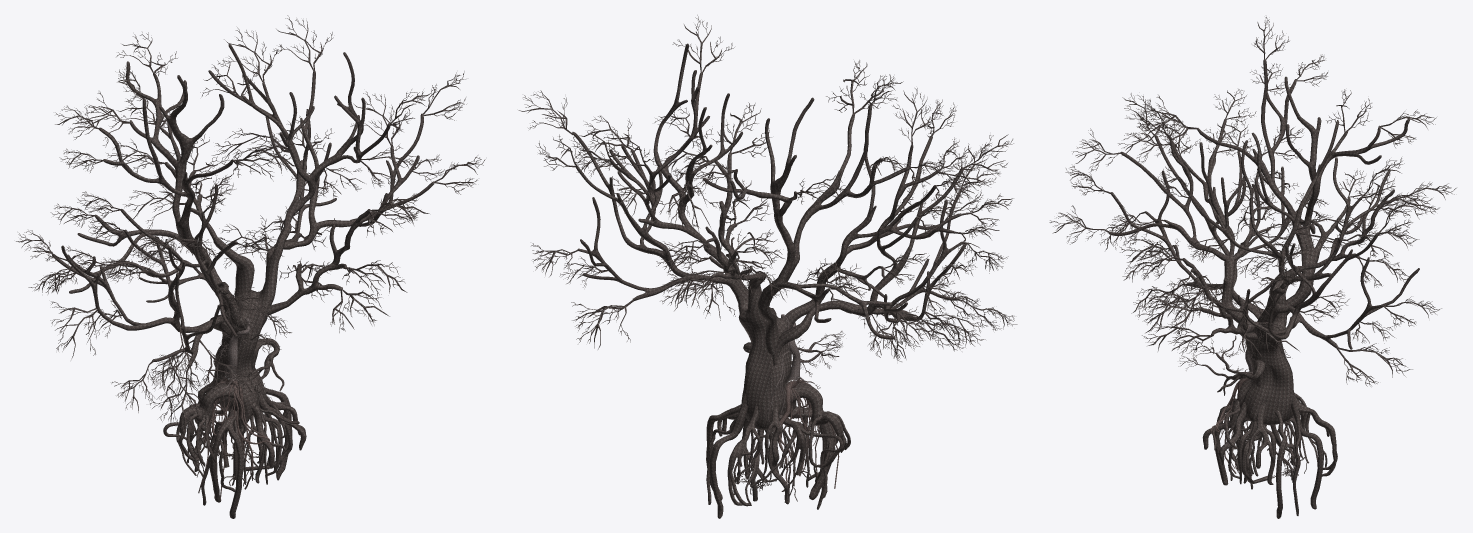
File: ltree.fbx
3 renders of one model, left to right at view 1: azimuth 30°, elevation 25°; view 2: azimuth 150°, elevation 25°; view 3: azimuth 270°, elevation 25°, orthographic. The views are drawn at different scales.
Visible parts, largest first — view 1: ltree_Mesh_001, ltree_Mesh_003, ltree_Mesh_002, ltree_Mesh_006, ltree_Mesh_004; view 2: ltree_Mesh_001, ltree_Mesh_003, ltree_Mesh_002, ltree_Mesh_006, ltree_Mesh_004; view 3: ltree_Mesh_001, ltree_Mesh_003, ltree_Mesh_002, ltree_Mesh_006.
Boxes of the visible parts, x1,y1,x2,y2 form: ltree_Mesh_001: [53, 44, 434, 518]; ltree_Mesh_003: [16, 15, 485, 486]; ltree_Mesh_002: [163, 381, 292, 505]; ltree_Mesh_006: [196, 378, 272, 500]; ltree_Mesh_004: [206, 318, 250, 391]; ltree_Mesh_001: [572, 43, 966, 518]; ltree_Mesh_003: [518, 15, 1017, 504]; ltree_Mesh_002: [727, 406, 850, 509]; ltree_Mesh_006: [778, 380, 839, 492]; ltree_Mesh_004: [763, 314, 820, 426]; ltree_Mesh_001: [1108, 59, 1419, 518]; ltree_Mesh_003: [1049, 17, 1456, 483]; ltree_Mesh_002: [1224, 393, 1337, 489]; ltree_Mesh_006: [1210, 378, 1291, 473].
Bounding box in the file's own units: 20013 × 19550 × 16940.
